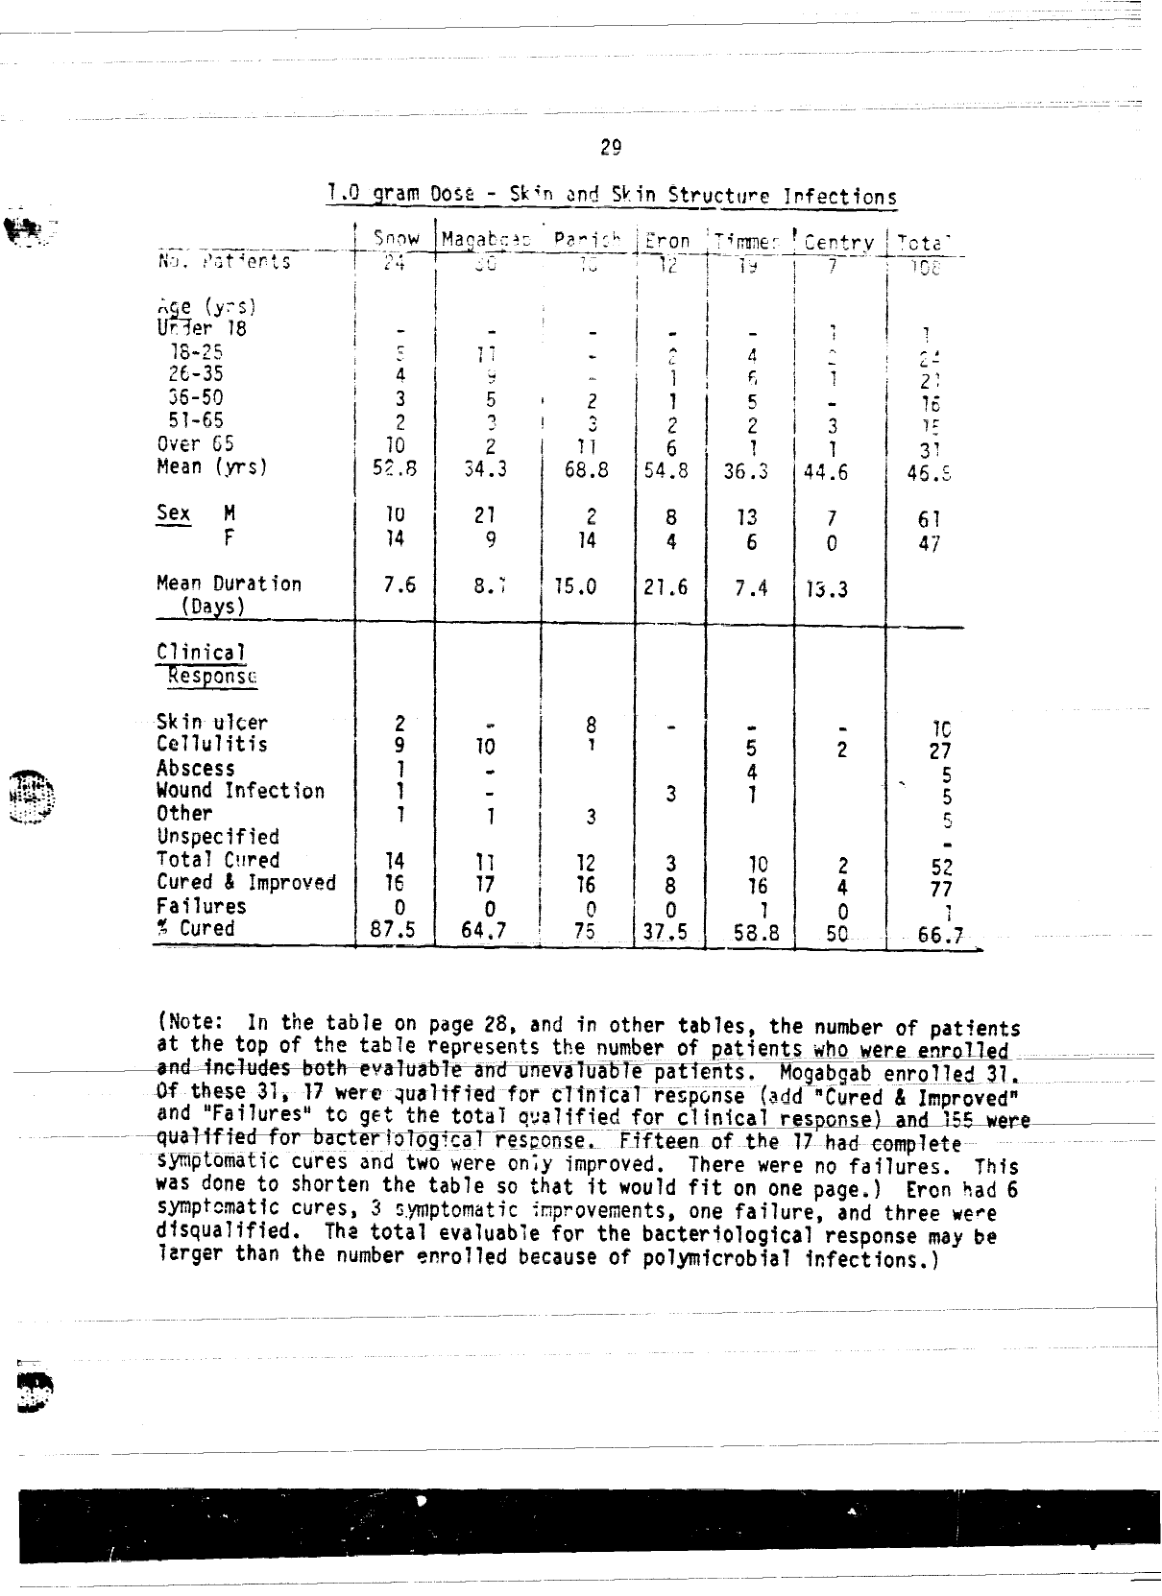partial_lined: (147, 217, 991, 958)
